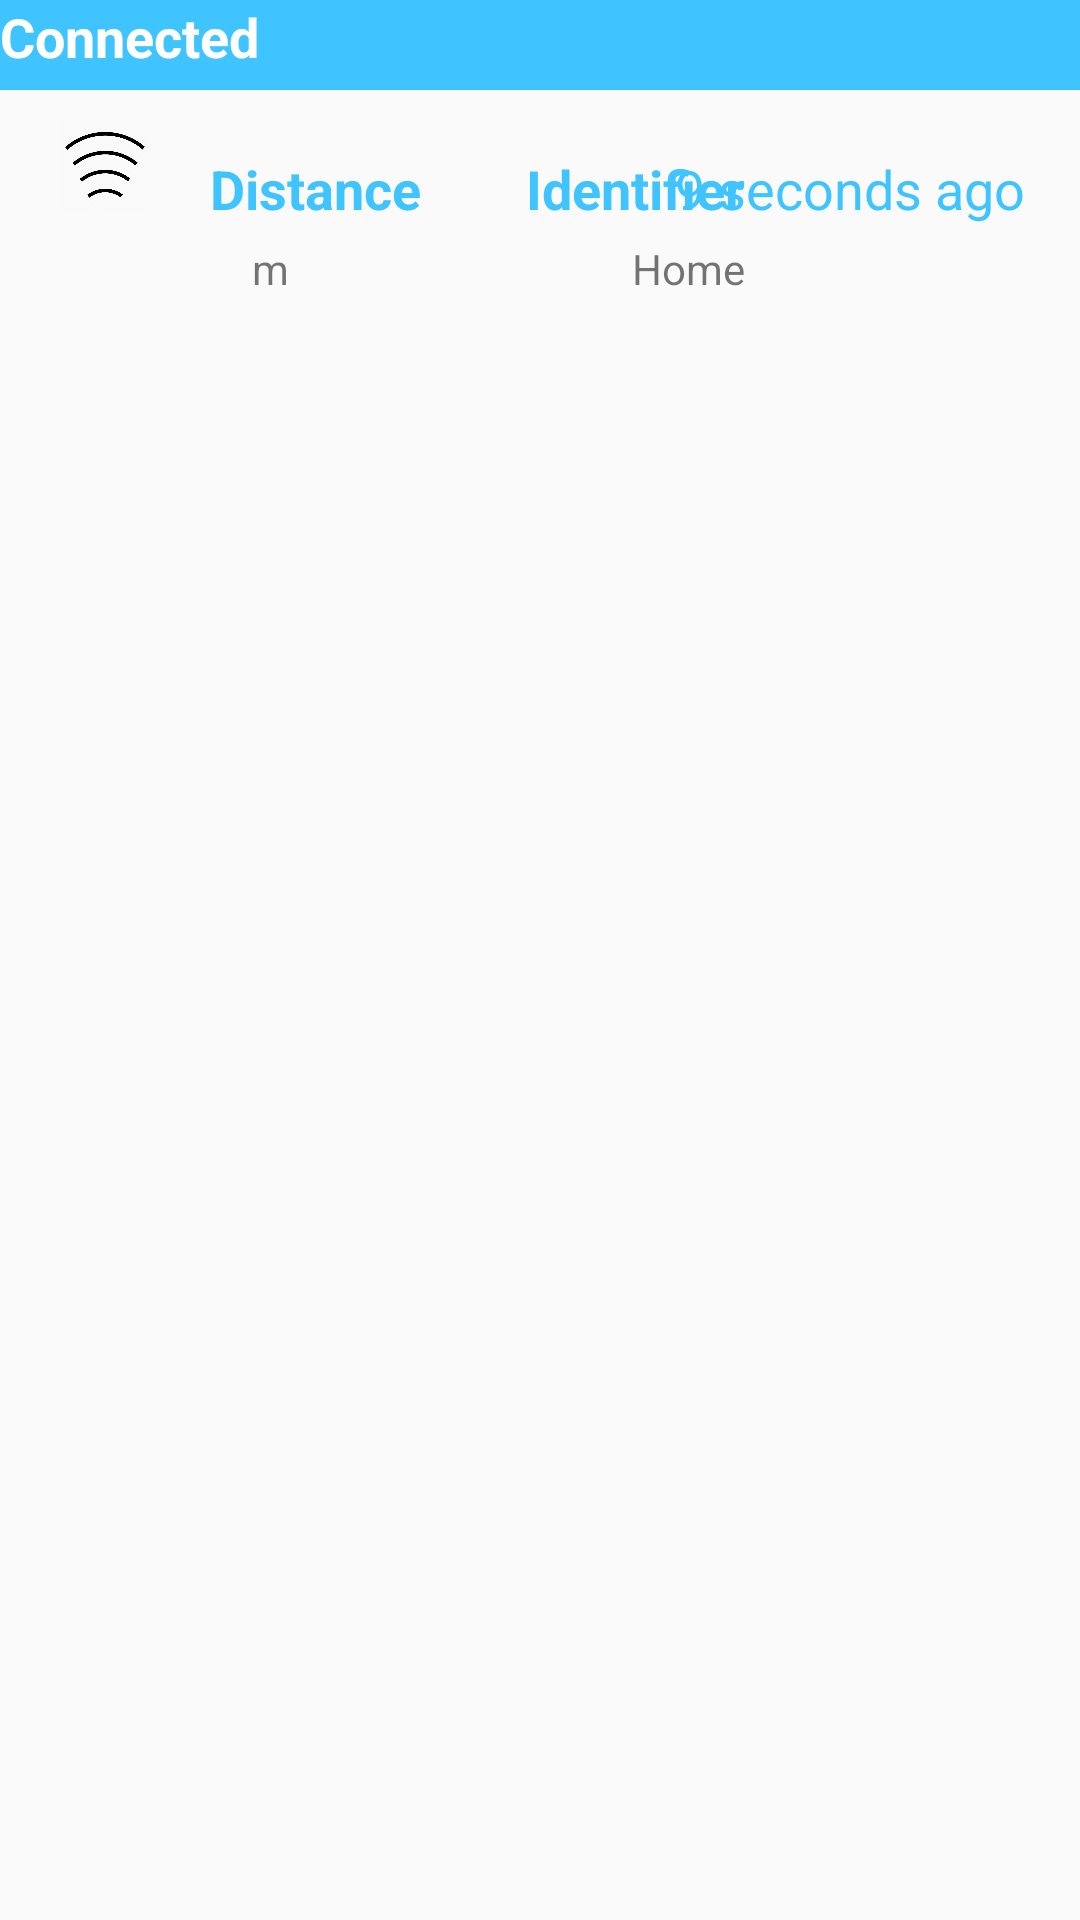

Icon bounding boxes for this 1080×1920 phone screenshot, format [left=x1, top=y1, right=x2, bottom=y2]:
wave: [left=65, top=132, right=145, bottom=198]
